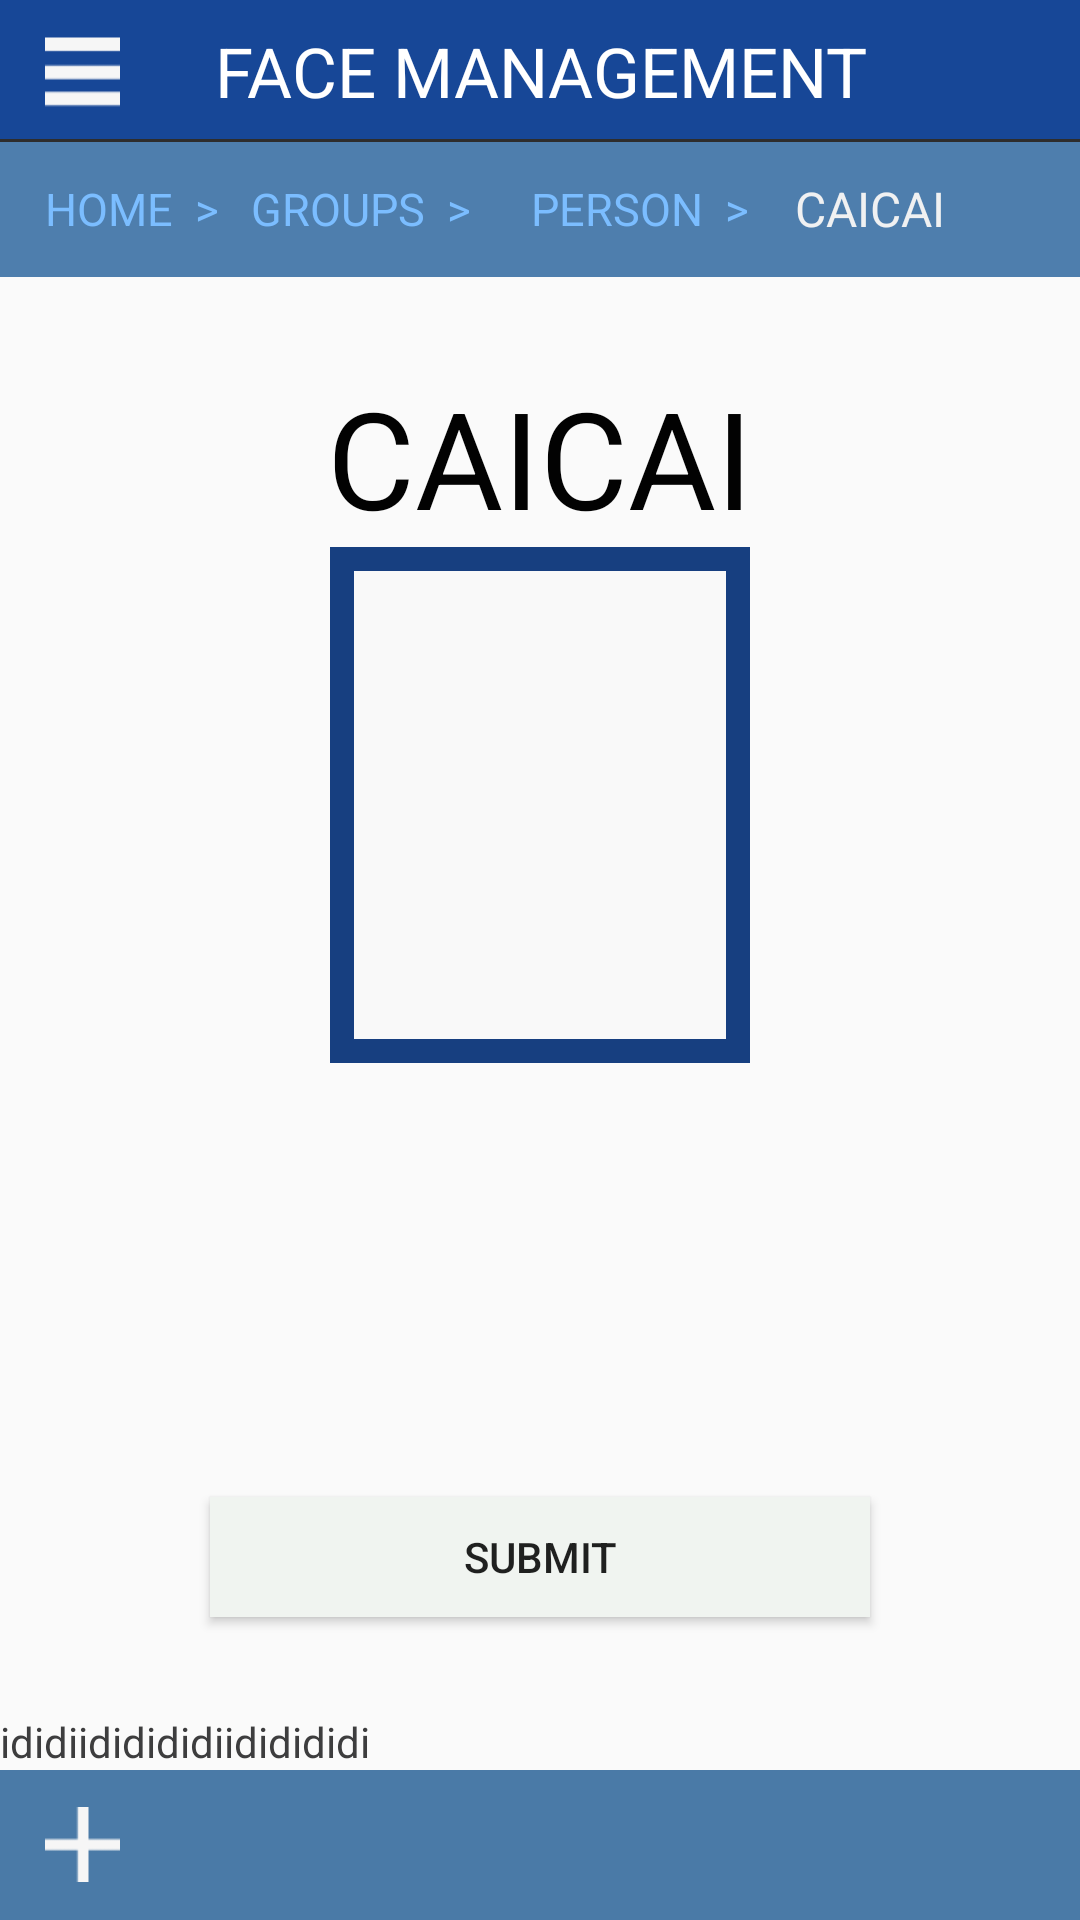

Icon click points for this 1080 × 1920 phone screenshot, format [x,y]:
caicaiadd: [82,1844]
menubutton: [82,72]
